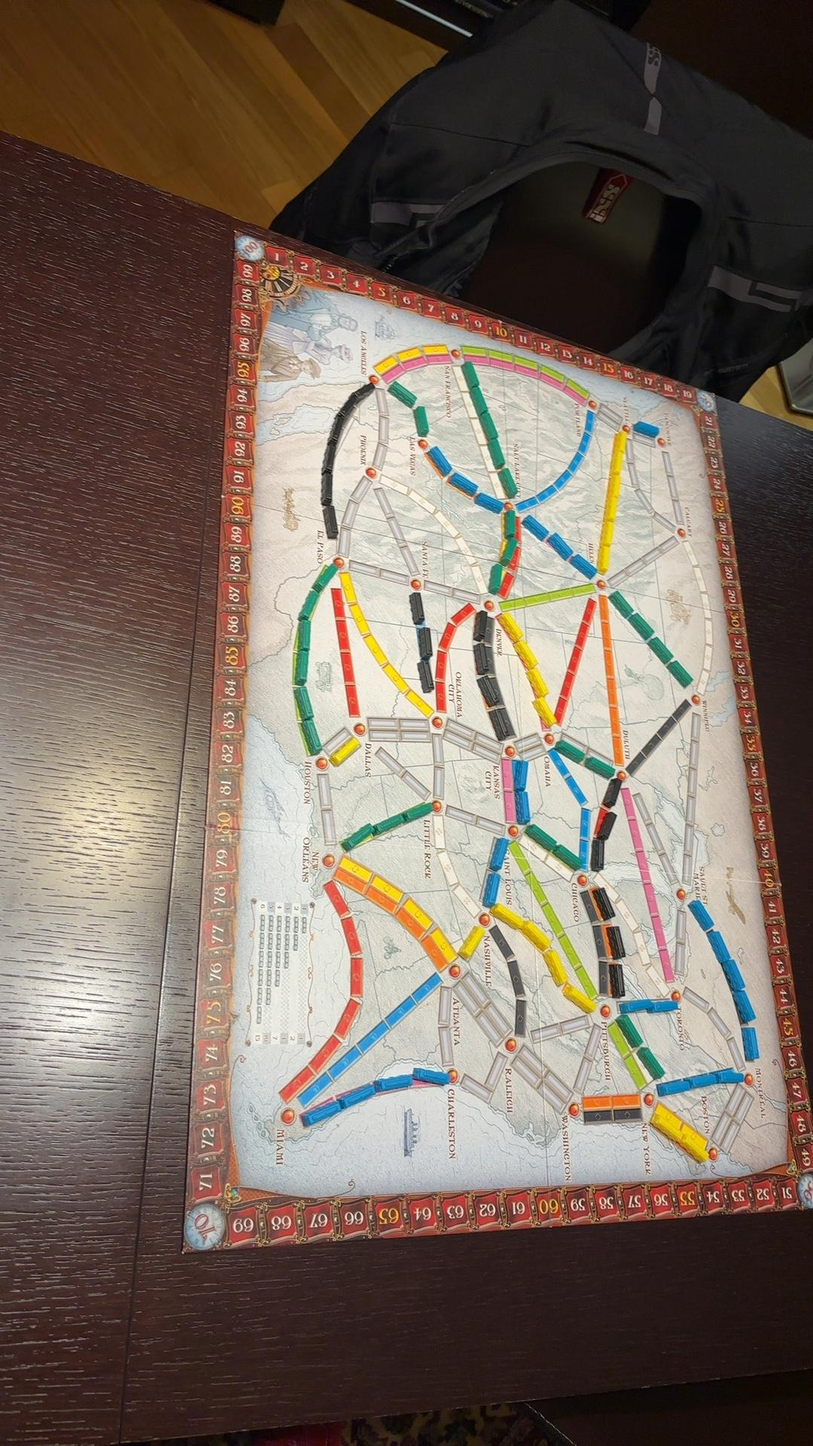black_train: (589, 887, 614, 920), (477, 675, 501, 707), (605, 925, 626, 959), (489, 707, 509, 740), (608, 963, 625, 997), (602, 776, 620, 808), (596, 811, 615, 840), (409, 592, 425, 626), (322, 504, 337, 539), (474, 642, 489, 675), (418, 660, 433, 692), (590, 838, 604, 871), (418, 627, 432, 659), (474, 610, 487, 641)
blue_train: (302, 1100, 340, 1125), (339, 1085, 373, 1109), (732, 990, 755, 1025), (447, 471, 477, 496), (721, 958, 744, 990), (708, 929, 729, 962), (428, 447, 451, 476), (483, 871, 500, 908), (489, 837, 507, 870), (376, 1075, 413, 1091), (413, 1068, 449, 1084), (474, 491, 502, 511), (516, 790, 530, 823), (633, 421, 659, 438), (513, 761, 528, 789)
green_train: (525, 824, 579, 871), (638, 1046, 664, 1079), (552, 844, 583, 871), (340, 825, 371, 851), (618, 1016, 642, 1048), (583, 755, 614, 779), (556, 735, 583, 761), (388, 382, 416, 407), (298, 591, 321, 621), (301, 721, 321, 755), (628, 612, 653, 639), (293, 646, 309, 687), (648, 638, 673, 664), (609, 590, 633, 617), (294, 685, 312, 720), (498, 466, 518, 497), (478, 408, 497, 440), (668, 660, 692, 685), (469, 385, 487, 413), (488, 562, 504, 592), (296, 620, 310, 654), (461, 362, 478, 389), (500, 538, 517, 565), (414, 405, 428, 437), (488, 440, 504, 468), (503, 511, 516, 536)
yellow_train: (517, 920, 550, 952), (492, 904, 529, 932), (563, 983, 594, 1012), (543, 948, 567, 985), (458, 926, 484, 959), (651, 1116, 681, 1142), (330, 739, 360, 765), (496, 612, 522, 639), (526, 667, 547, 697), (515, 639, 537, 667), (532, 698, 554, 725), (682, 1141, 707, 1161)
